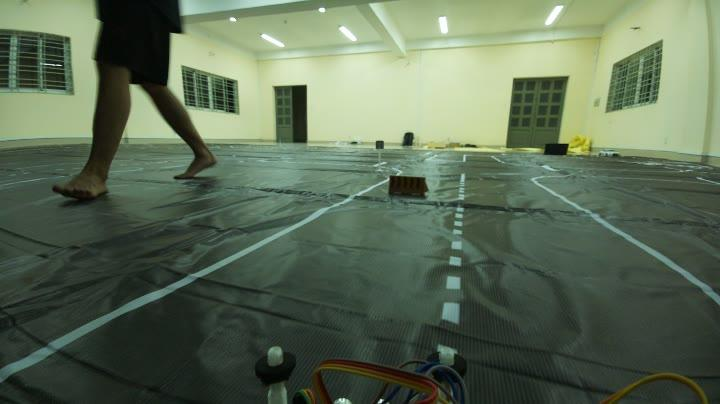roadblock: (380, 169, 432, 200)
